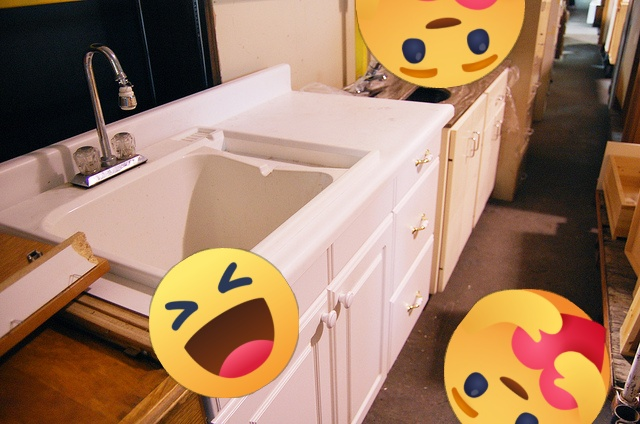care: (444, 289, 610, 424), (356, 0, 525, 88)
haha: (149, 248, 299, 398)
